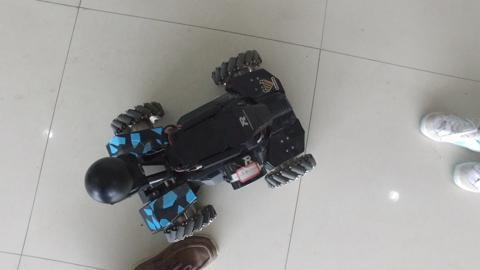chariot: (75, 49, 305, 232)
